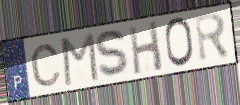C: (29, 43, 63, 89)
H: (127, 19, 165, 77)
M: (60, 31, 100, 89)
O: (163, 16, 196, 69)
R: (192, 10, 231, 65)
S: (93, 28, 133, 80)
